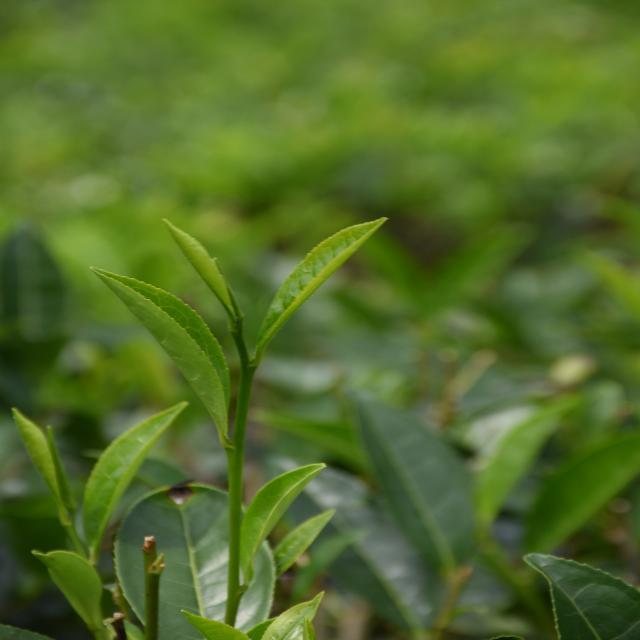Stem: (242, 362, 255, 375)
